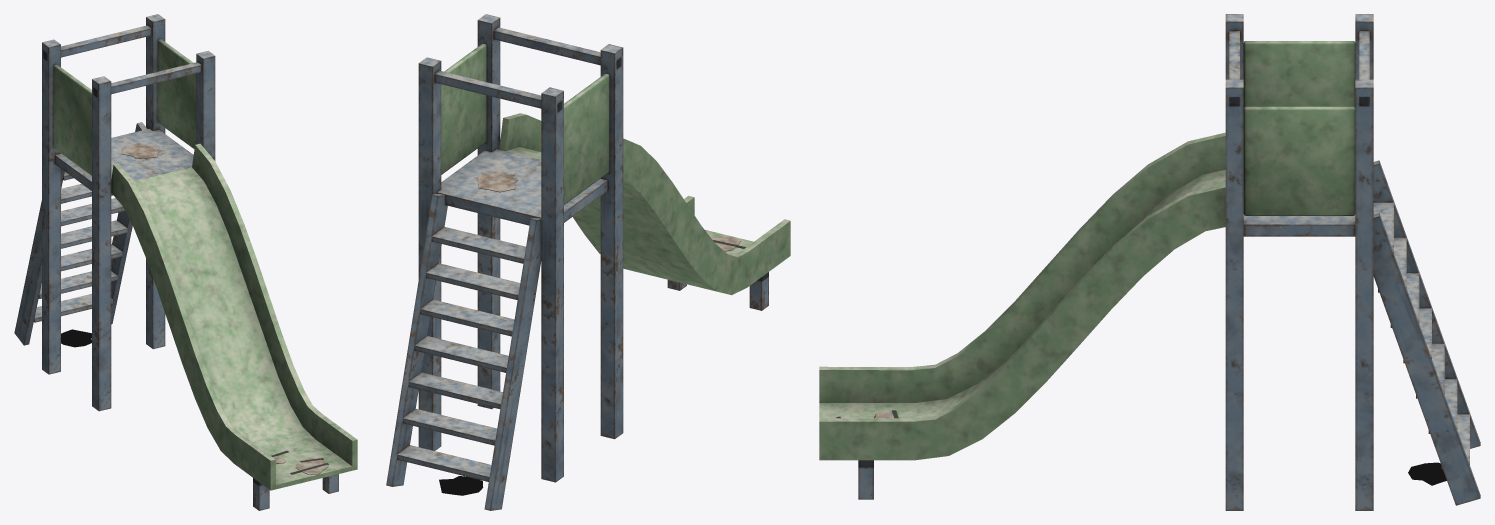
The model's file is slide.fbx.
3 views of the same model, side by side, from view 1: azimuth 30°, elevation 25°; view 2: azimuth 150°, elevation 25°; view 3: azimuth 270°, elevation 25° (orthographic). The views are drawn at different scales.
Parts seen in each view (by area): view 1: Body; view 2: Body; view 3: Body.
Boxes of the visible parts, bbox=[...] form: Body: bbox=[14, 14, 357, 510]; Body: bbox=[386, 14, 790, 510]; Body: bbox=[819, 14, 1480, 510].
Bounding box in the file's own units: 3.35 × 9.08 × 12.74.
Materials: 1 (1 with a texture image).
